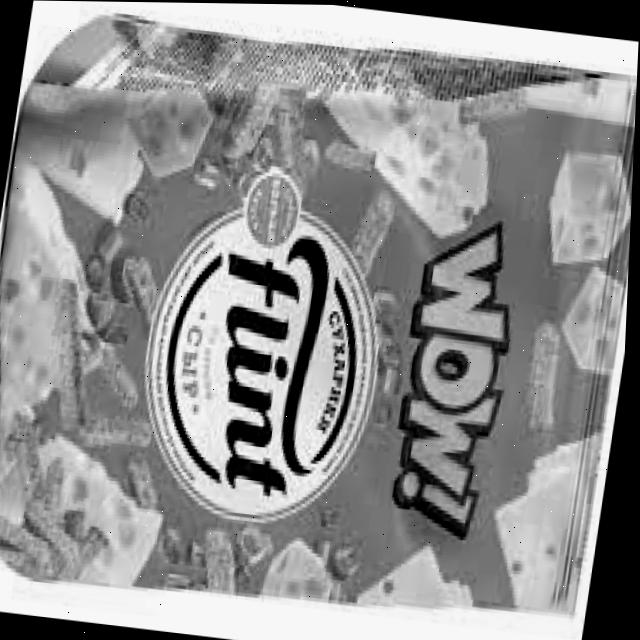flint: (132, 198, 400, 527)
